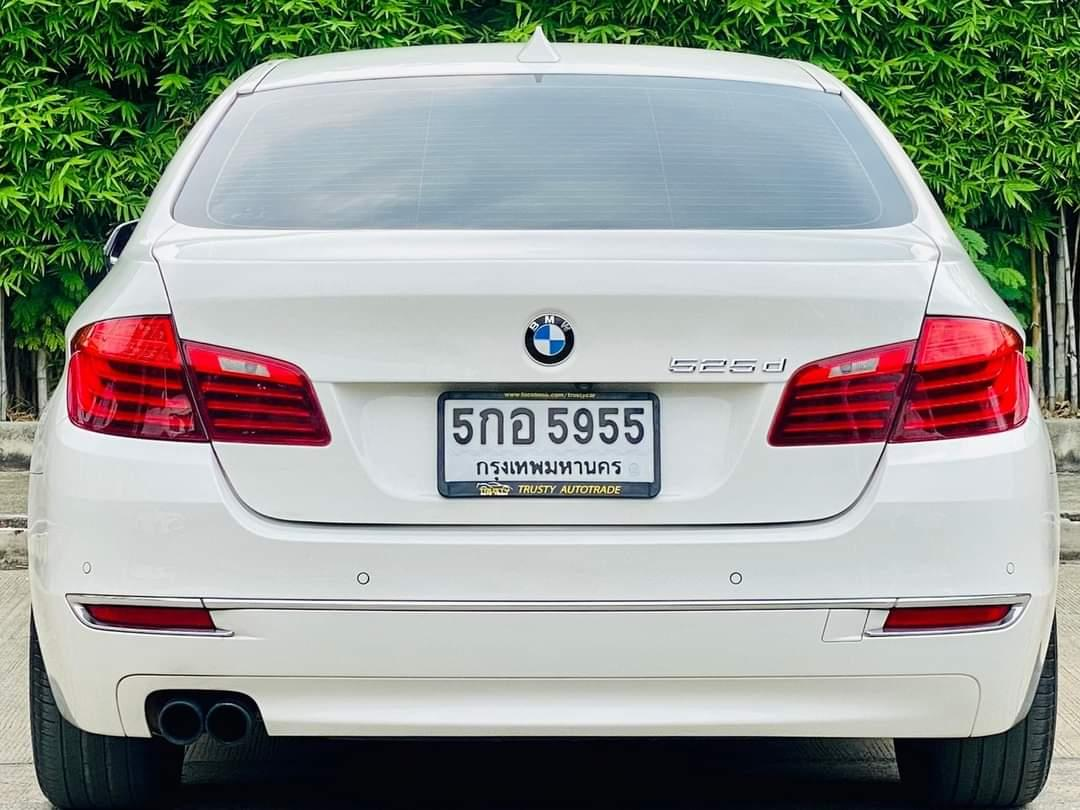license-plate: (436, 383, 664, 502)
